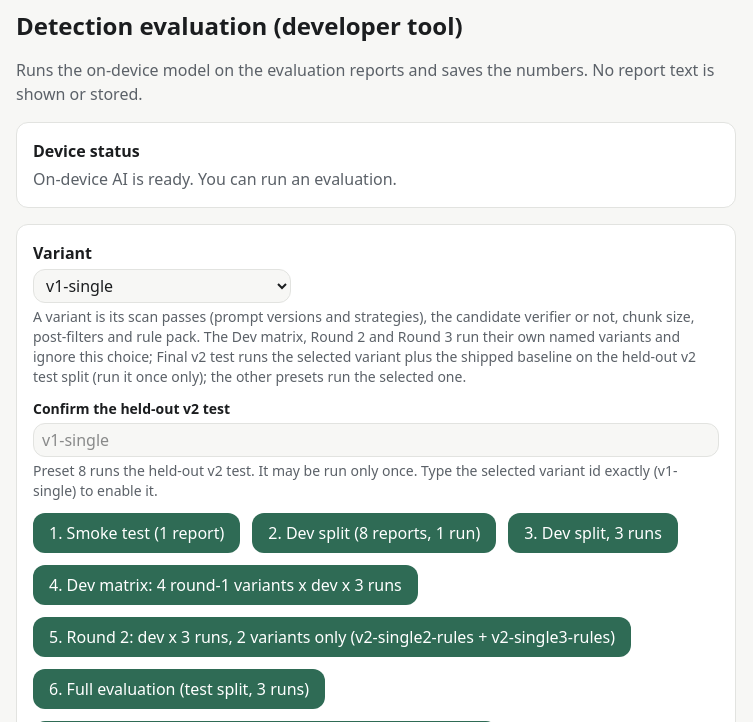
it: EvalPage held-out v2 test guard › does not affect the other presets
Check: the text "On-device AI is ready. You can run an evaluation." is shown, box [33,168,397,190]
Click the button "1. Smoke test (1 report)" at (137, 533), box [33,513,240,553]
(page scrolled)
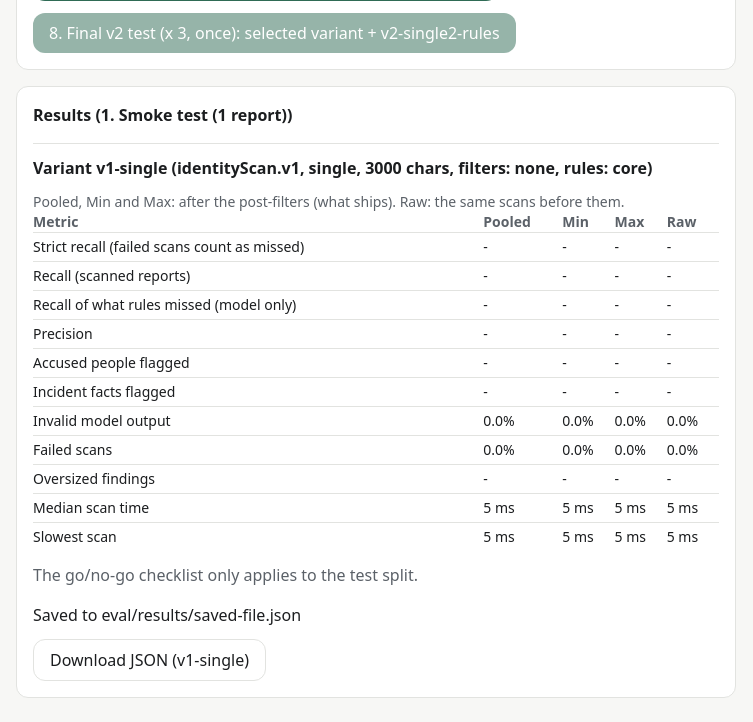
Check: the text "Saved to eval/results/saved-file.json" is shown, box [33,604,301,626]
